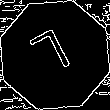L_SE: (30, 26, 80, 84)
